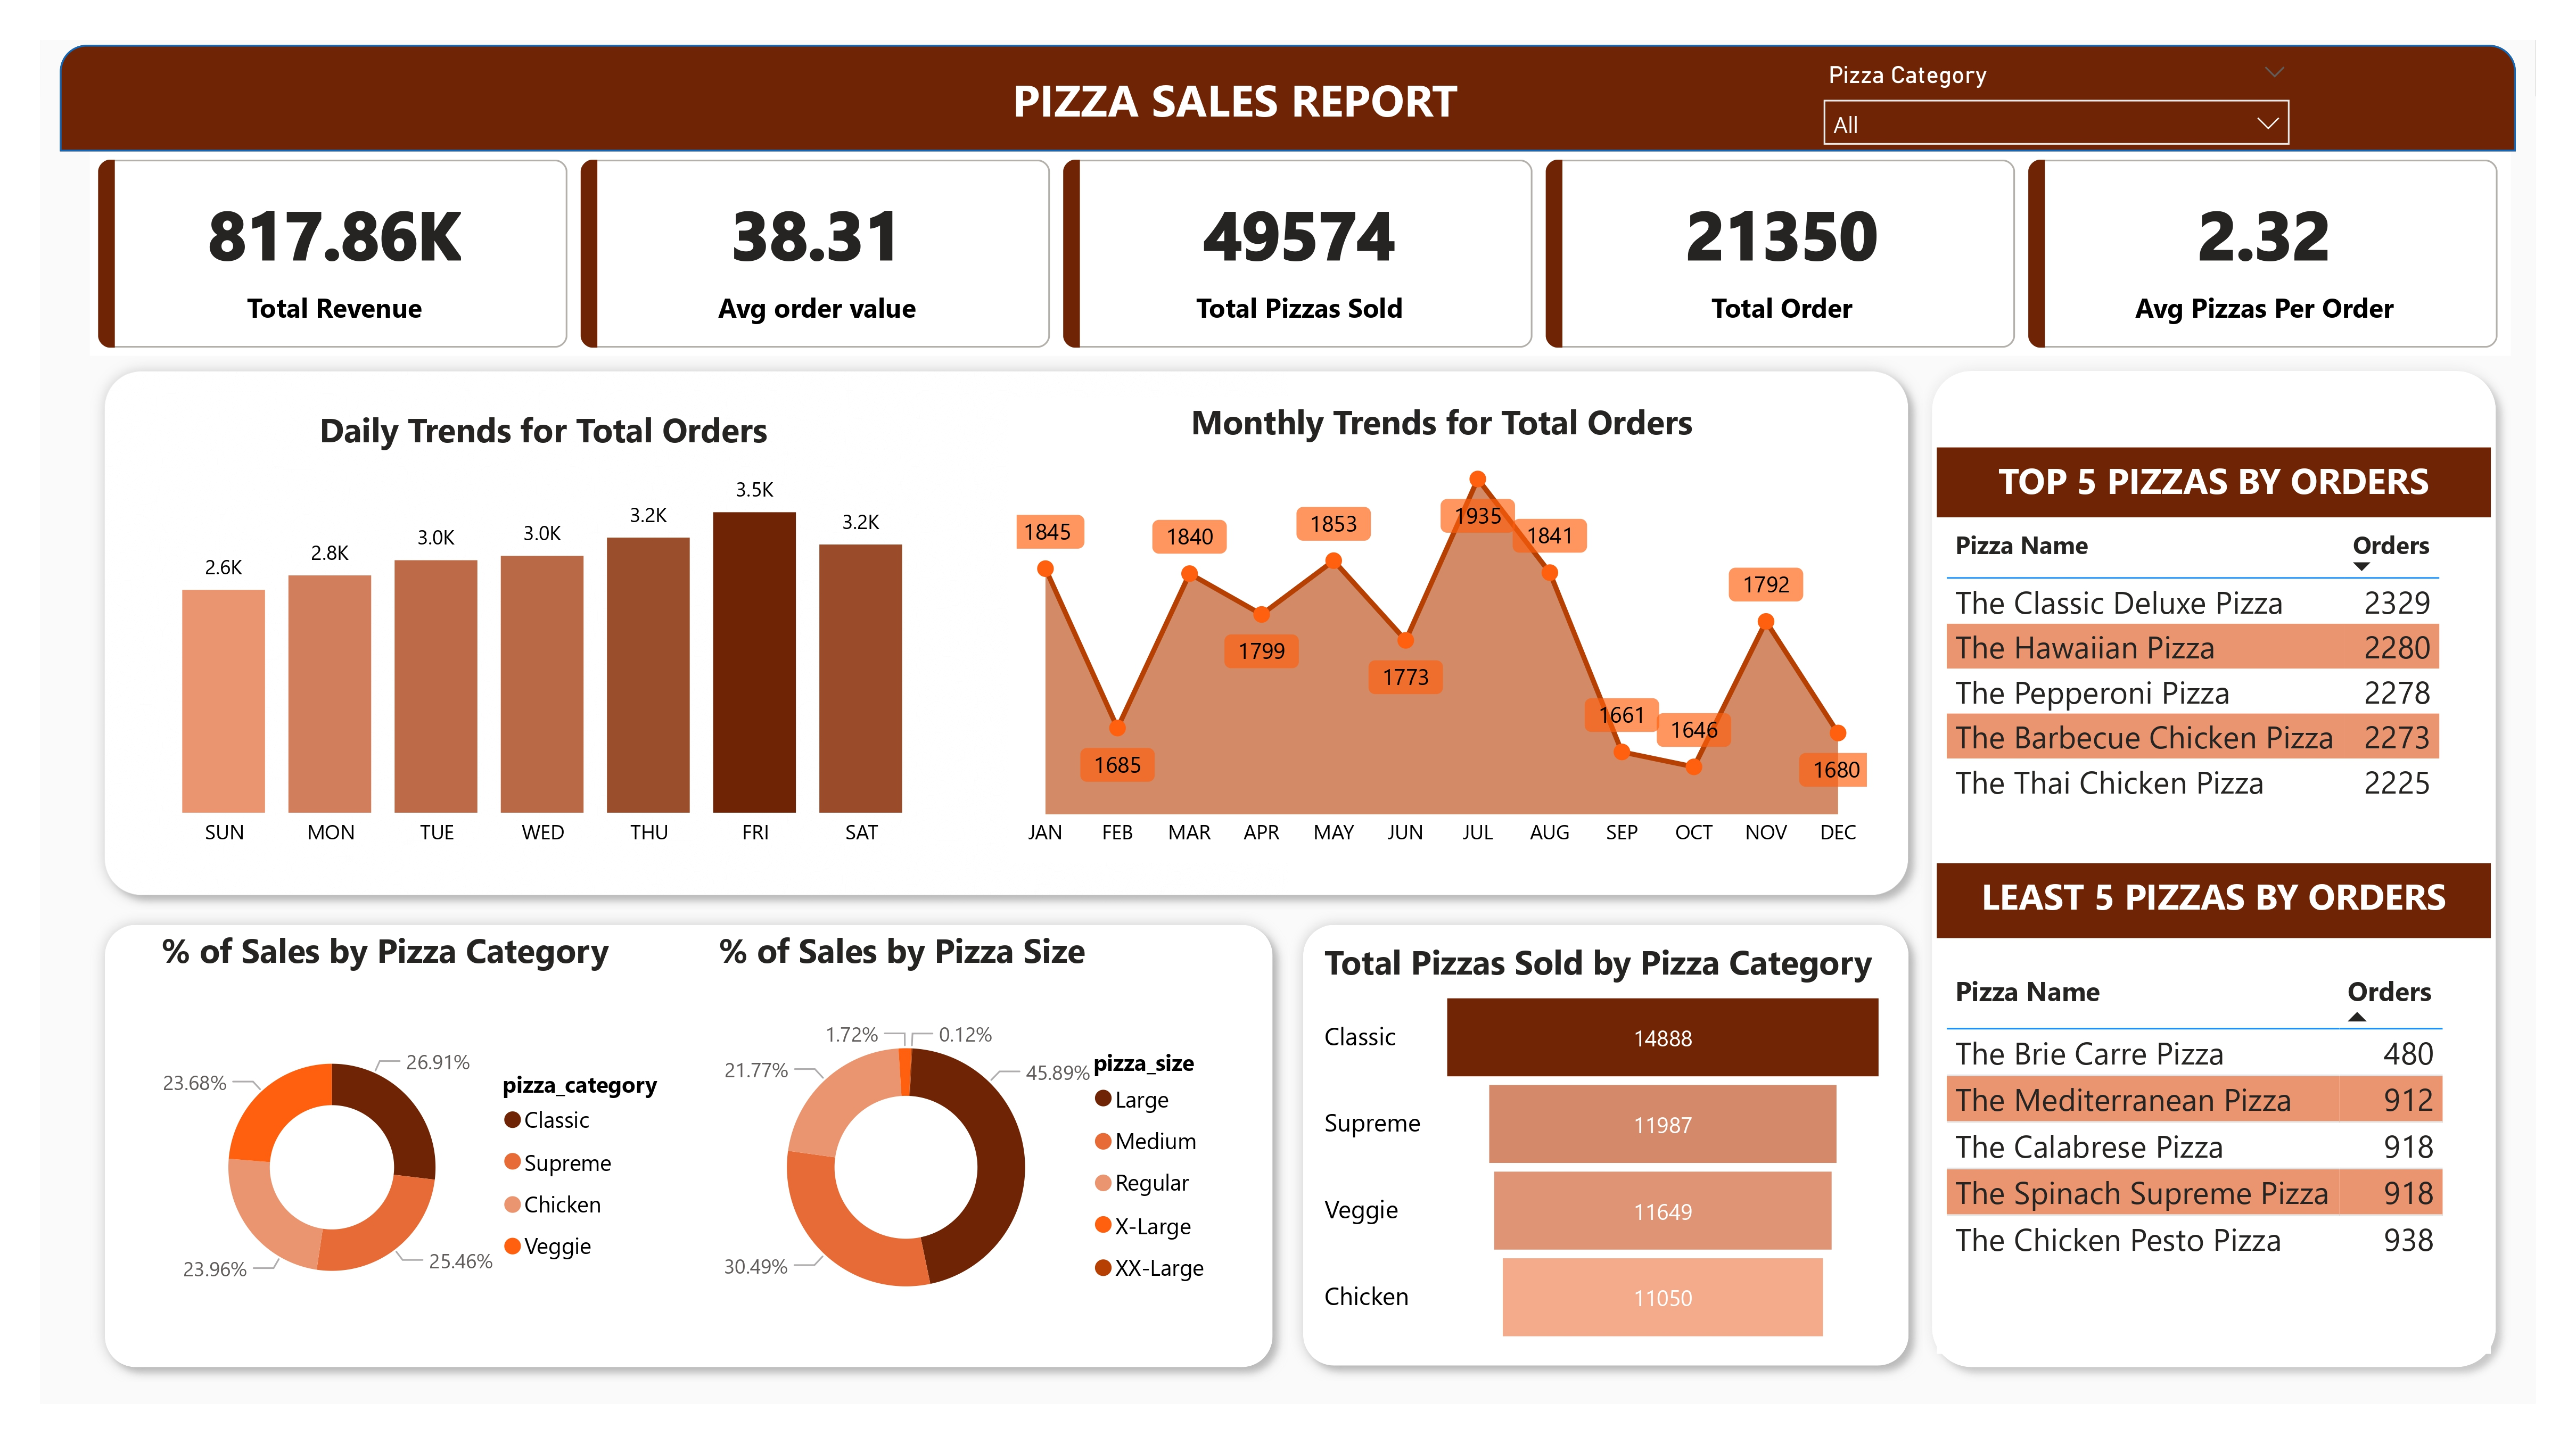

Layout of this report page (visuals, bound fields, positions):
{"tool":"powerbi","page":{"name":"Page 1","canvas":[1500,820],"ordinal":0},"visuals":[{"type":"cardVisual","fields":{"Data":["pizza_sales.Total Revenue","pizza_sales.Avg order value","pizza_sales.Total Pizzas Sold","pizza_sales.Total Order","pizza_sales.Avg Pizzas Per Order"]},"box":[30,66.7,1455,123.3],"z":0},{"type":"shape","box":[11.7,3.3,1476.7,63.3],"z":1},{"type":"shape","box":[30,190,1101.7,333.3],"z":2},{"type":"columnChart","title":"Daily Trends for Total Orders","fields":{"Category":["pizza_sales.Order Day"],"Y":["pizza_sales.Total Order"]},"box":[55,215,495,280],"z":3},{"type":"areaChart","title":"Monthly Trends for Total Orders","fields":{"Category":["pizza_sales.Order Month"],"Y":["pizza_sales.Total Order"]},"box":[581.7,215,521.7,280],"z":4},{"type":"shape","box":[30,523.3,720,283.3],"z":5},{"type":"donutChart","title":"% of Sales by Pizza Category","fields":{"Category":["pizza_sales.pizza_category"],"Y":["pizza_sales.Total Revenue"]},"box":[68.3,533.3,315,263.3],"z":6},{"type":"donutChart","title":"% of Sales by Pizza Size","fields":{"Y":["pizza_sales.Total Revenue"],"Category":["pizza_sales.pizza_size"]},"box":[403.3,533.3,315,263.3],"z":7},{"type":"shape","box":[750,523,382,283],"z":8},{"type":"funnel","title":"Total Pizzas Sold by Pizza Category","fields":{"Category":["pizza_sales.pizza_category"],"Y":["pizza_sales.Total Pizzas Sold"]},"box":[766.7,540,348.3,250],"z":9},{"type":"shape","box":[1128.3,190,356.7,616.7],"z":10},{"type":"textbox","box":[516.7,11.7,403.3,46.7],"z":11},{"type":"textbox","box":[1140,245,333.3,41.7],"z":12},{"type":"tableEx","fields":{"Values":["pizza_sales.pizza_name","Count(pizza_sales.order_id)"]},"box":[1140,286.7,333.3,198.3],"z":13},{"type":"textbox","box":[1140,495,333.3,45],"z":14},{"type":"tableEx","fields":{"Values":["pizza_sales.pizza_name","Count(pizza_sales.order_id)"]},"box":[1140,555,333.3,235],"z":15},{"type":"slicer","fields":{"Values":["pizza_sales.pizza_category"]},"box":[1061.7,8.3,300,56.7],"z":16}]}

Visuals, with their boxes on the page's 1500x820 design canvas (x1, y1, x2, y2). These are canvas units, not pixel positions in the 2576x1444 screenshot, which may show the page scaled, cropped or inside an application window:
cardVisual - pizza_sales.Total Revenue x pizza_sales.Avg order value: x1=30 y1=67 x2=1485 y2=190
shape: x1=12 y1=3 x2=1488 y2=67
shape: x1=30 y1=190 x2=1132 y2=523
"Daily Trends for Total Orders" columnChart: x1=55 y1=215 x2=550 y2=495
"Monthly Trends for Total Orders" areaChart: x1=582 y1=215 x2=1103 y2=495
shape: x1=30 y1=523 x2=750 y2=807
"% of Sales by Pizza Category" donutChart: x1=68 y1=533 x2=383 y2=797
"% of Sales by Pizza Size" donutChart: x1=403 y1=533 x2=718 y2=797
shape: x1=750 y1=523 x2=1132 y2=806
"Total Pizzas Sold by Pizza Category" funnel: x1=767 y1=540 x2=1115 y2=790
shape: x1=1128 y1=190 x2=1485 y2=807
textbox: x1=517 y1=12 x2=920 y2=58
textbox: x1=1140 y1=245 x2=1473 y2=287
tableEx - pizza_sales.pizza_name x Count(pizza_sales.order_id): x1=1140 y1=287 x2=1473 y2=485
textbox: x1=1140 y1=495 x2=1473 y2=540
tableEx - pizza_sales.pizza_name x Count(pizza_sales.order_id): x1=1140 y1=555 x2=1473 y2=790
slicer - pizza_sales.pizza_category: x1=1062 y1=8 x2=1362 y2=65
